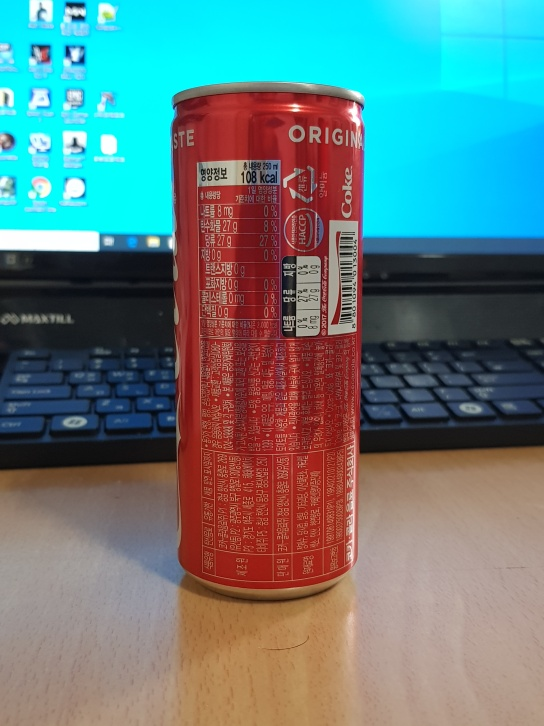Can: (166, 77, 364, 603)
